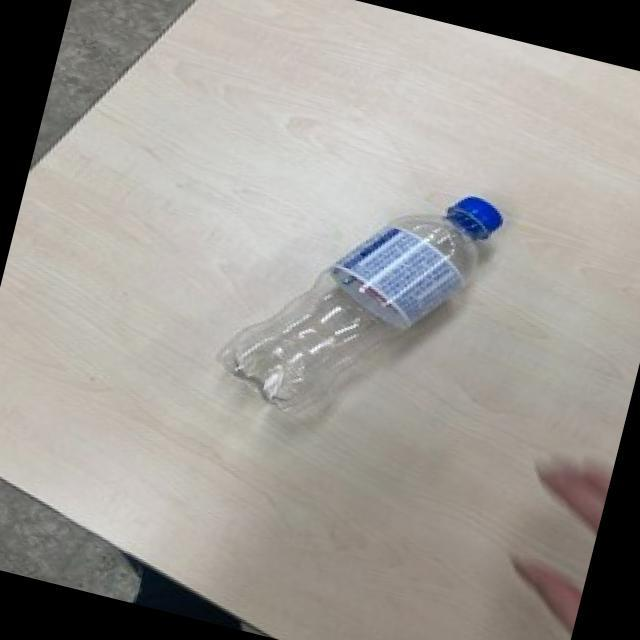good: (207, 137, 514, 466)
